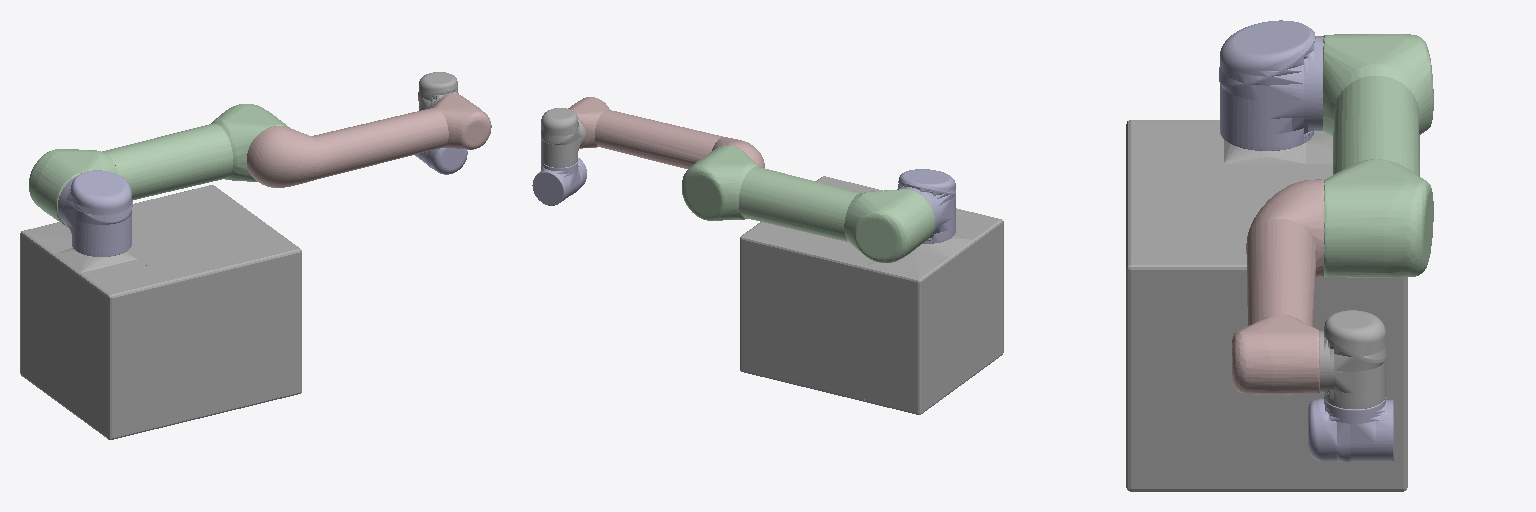
The robot description file, URDF, robot "ur5_rg2":
<?xml version="1.0" ?>
<!-- =================================================================================== -->
<!-- |    This document was autogenerated by xacro from ur.urdf.xacro                  | -->
<!-- |    EDITING THIS FILE BY HAND IS NOT RECOMMENDED                                 | -->
<!-- =================================================================================== -->
<robot name="ur5_rg2">
  <link name="base_link">
    <inertial>
      <mass value="0.0"/>
      <origin rpy="0 0 0" xyz="0 0 0"/>
      <inertia ixx="0.0" ixy="0.0" ixz="0.0" iyy="0.0" iyz="0.0" izz="0.0"/>
    </inertial>
  </link>
  <link name="base_link_inertia">
    <visual>
      <origin rpy="0 0 0" xyz="0 0 0"/>
      <geometry>
        <mesh filename="meshes/ur5/visual/base_mobile.obj" scale="0.6 0.6 0.6"/>
      </geometry>
      <material name="LightGrey">
        <color rgba="0.7 0.7 0.7 1.0"/>
      </material>
    </visual>
    <collision>
      <origin rpy="0 0 0" xyz="0 0 0"/>
      <geometry>
        <mesh filename="meshes/ur5/cvx/0_coacd/base_mobile.obj" scale="0.6 0.6 0.6"/>
      </geometry>
    </collision>
    <inertial>
      <mass value="4.0"/>
      <origin rpy="0 0 0" xyz="0 0 0"/>
      <inertia ixx="0.00443333156" ixy="0.0" ixz="0.0" iyy="0.00443333156" iyz="0.0" izz="0.0072"/>
    </inertial>
  </link>
  <link name="shoulder_link">
    <visual>
      <origin rpy="0 0 3.141592653589793" xyz="0 0 0"/>
      <geometry>
        <mesh filename="meshes/ur5/visual/shoulder.obj"/>
      </geometry>
      <material name="LightBlue">
        <color rgba="0.7 0.7 0.8 1.0"/>
      </material>
    </visual>
    <collision>
      <origin rpy="0 0 3.141592653589793" xyz="0 0 0"/>
      <geometry>
        <mesh filename="meshes/ur5/cvx/0_coacd/shoulder.obj"/>
      </geometry>
    </collision>
    <inertial>
      <mass value="3.7"/>
      <origin rpy="0 0 0" xyz="0 0 0"/>
      <inertia ixx="0.014972352344389999" ixy="0.0" ixz="0.0" iyy="0.014972352344389999" iyz="0.0" izz="0.01040625"/>
    </inertial>
  </link>
  <link name="upper_arm_link">
    <visual>
      <origin rpy="1.5707963267948966 0 -1.5707963267948966" xyz="0 0 0.13585"/>
      <geometry>
        <mesh filename="meshes/ur5/visual/upperarm.obj"/>
      </geometry>
      <material name="LightGreen">
        <color rgba="0.7 0.8 0.7 1.0"/>
      </material>
    </visual>
    <collision>
      <origin rpy="1.5707963267948966 0 -1.5707963267948966" xyz="0 0 0.13585"/>
      <geometry>
        <mesh filename="meshes/ur5/cvx/0_coacd/upperarm.obj"/>
      </geometry>
    </collision>
    <inertial>
      <mass value="8.393"/>
      <origin rpy="0 1.5707963267948966 0" xyz="-0.2125 0.0 0.136"/>
      <inertia ixx="0.1338857818623325" ixy="0.0" ixz="0.0" iyy="0.1338857818623325" iyz="0.0" izz="0.0151074"/>
    </inertial>
  </link>
  <link name="forearm_link">
    <visual>
      <origin rpy="1.5707963267948966 0 -1.5707963267948966" xyz="0 0 0.0165"/>
      <geometry>
        <mesh filename="meshes/ur5/visual/forearm.obj"/>
      </geometry>
      <material name="LightRed">
        <color rgba="0.8 0.7 0.7 1.0"/>
      </material>
    </visual>
    <collision>
      <origin rpy="1.5707963267948966 0 -1.5707963267948966" xyz="0 0 0.0165"/>
      <geometry>
        <mesh filename="meshes/ur5/cvx/0_coacd/forearm.obj"/>
      </geometry>
    </collision>
    <inertial>
      <mass value="2.275"/>
      <origin rpy="0 1.5707963267948966 0" xyz="-0.196125 0.0 0.0165"/>
      <inertia ixx="0.03121679102890359" ixy="0.0" ixz="0.0" iyy="0.03121679102890359" iyz="0.0" izz="0.004095"/>
    </inertial>
  </link>
  <link name="wrist_1_link">
    <visual>
      <origin rpy="1.5707963267948966 0 0" xyz="0 0 -0.093"/>
      <geometry>
        <mesh filename="meshes/ur5/visual/wrist1.obj"/>
      </geometry>
      <material name="LightGrey">
        <color rgba="0.7 0.7 0.7 1.0"/>
      </material>
    </visual>
    <collision>
      <origin rpy="1.5707963267948966 0 0" xyz="0 0 -0.093"/>
      <geometry>
        <mesh filename="meshes/ur5/cvx/0_coacd/wrist1.obj"/>
      </geometry>
    </collision>
    <inertial>
      <mass value="1.219"/>
      <origin rpy="0 0 0" xyz="0 0 0"/>
      <inertia ixx="0.0020138887777775" ixy="0.0" ixz="0.0" iyy="0.0020138887777775" iyz="0.0" izz="0.0021942"/>
    </inertial>
  </link>
  <link name="wrist_2_link">
    <visual>
      <origin rpy="0 0 0" xyz="0 0 -0.095"/>
      <geometry>
        <mesh filename="meshes/ur5/visual/wrist2.obj"/>
      </geometry>
      <material name="LightBlue">
        <color rgba="0.7 0.7 0.8 1.0"/>
      </material>
    </visual>
    <collision>
      <origin rpy="0 0 0" xyz="0 0 -0.095"/>
      <geometry>
        <mesh filename="meshes/ur5/cvx/0_coacd/wrist2.obj"/>
      </geometry>
    </collision>
    <inertial>
      <mass value="1.219"/>
      <origin rpy="0 0 0" xyz="0 0 0"/>
      <inertia ixx="0.0018310388509175" ixy="0.0" ixz="0.0" iyy="0.0018310388509175" iyz="0.0" izz="0.0021942"/>
    </inertial>
  </link>
  <link name="wrist_3_link">
    <visual>
      <origin rpy="0 0 0" xyz="0 0 0"/>
      <geometry>
        <mesh filename="meshes/rg2_gripper/modified/ee_rg2_gripper_open10.obj"/>
      </geometry>
      <material name="LightGreen">
        <color rgba="0.7 0.8 0.7 1.0"/>
      </material>
    </visual>
    <collision>
      <origin rpy="0 0 0" xyz="0 0 0"/>
      <geometry>
        <mesh filename="meshes/rg2_gripper/cvx/0_coacd/ee_rg2_gripper_open10.obj"/>
      </geometry>
    </collision>
    <inertial>
      <mass value="0.1879"/>
      <origin rpy="0 0 0" xyz="0.0 0.0 -0.01525"/>
      <inertia ixx="8.062472608343e-05" ixy="0.0" ixz="0.0" iyy="8.062472608343e-05" iyz="0.0" izz="0.0001321171875"/>
    </inertial>
  </link>
  

  <!-- joints - main serial chain -->
  <joint name="base_link-base_link_inertia" type="fixed">
    <parent link="base_link"/>
    <child link="base_link_inertia"/>
    <!-- 'base_link' is REP-103 aligned (so X+ forward), while the internal
           frames of the robot/controller have X+ pointing backwards.
           Use the joint between 'base_link' and 'base_link_inertia' (a dummy
           link/frame) to introduce the necessary rotation over Z (of pi rad).
      -->
    <origin rpy="0 0 3.141592653589793" xyz="0 0 0"/>
  </joint>
  <joint name="shoulder_pan_joint" type="revolute">
    <parent link="base_link_inertia"/>
    <child link="shoulder_link"/>
    <origin rpy="0 0 0" xyz="0 0 0.089159"/>
    <axis xyz="0 0 1"/>
    <limit effort="150.0" lower="-6.283185307179586" upper="6.283185307179586" velocity="3.141592653589793"/>
    <dynamics damping="0" friction="0"/>
  </joint>
  <joint name="shoulder_lift_joint" type="revolute">
    <parent link="shoulder_link"/>
    <child link="upper_arm_link"/>
    <origin rpy="1.570796327 0 0" xyz="0 0 0"/>
    <axis xyz="0 0 1"/>
    <limit effort="150.0" lower="-6.283185307179586" upper="6.283185307179586" velocity="3.141592653589793"/>
    <dynamics damping="0" friction="0"/>
  </joint>
  <joint name="elbow_joint" type="revolute">
    <parent link="upper_arm_link"/>
    <child link="forearm_link"/>
    <origin rpy="0 0 0" xyz="-0.425 0 0"/>
    <axis xyz="0 0 1"/>
    <limit effort="150.0" lower="-3.141592653589793" upper="3.141592653589793" velocity="3.141592653589793"/>
    <dynamics damping="0" friction="0"/>
  </joint>
  <joint name="wrist_1_joint" type="revolute">
    <parent link="forearm_link"/>
    <child link="wrist_1_link"/>
    <origin rpy="0 0 0" xyz="-0.39225 0 0.10915"/>
    <axis xyz="0 0 1"/>
    <limit effort="28.0" lower="-6.283185307179586" upper="6.283185307179586" velocity="3.141592653589793"/>
    <dynamics damping="0" friction="0"/>
  </joint>
  <joint name="wrist_2_joint" type="revolute">
    <parent link="wrist_1_link"/>
    <child link="wrist_2_link"/>
    <origin rpy="1.570796327 0 0" xyz="0 -0.09465 -1.941303950897609e-11"/>
    <axis xyz="0 0 1"/>
    <limit effort="28.0" lower="-6.283185307179586" upper="6.283185307179586" velocity="3.141592653589793"/>
    <dynamics damping="0" friction="0"/>
  </joint>
  <joint name="wrist_3_joint" type="revolute">
    <parent link="wrist_2_link"/>
    <child link="wrist_3_link"/>
    <origin rpy="1.570796326589793 3.141592653589793 3.141592653589793" xyz="0 0.0823 -1.688001216681175e-11"/>
    <axis xyz="0 0 1"/>
    <limit effort="28.0" lower="-6.283185307179586" upper="6.283185307179586" velocity="3.141592653589793"/>
    <dynamics damping="0" friction="0"/>
  </joint>
  
</robot>

--- Render facts (derived) ---
3 views of the same robot in one strip: view 1: azimuth 30°, elevation 25°; view 2: azimuth 150°, elevation 25°; view 3: azimuth 270°, elevation 25° (orthographic).
Model ur5_rg2 with 8 links and 7 joints (6 revolute, 1 fixed), rooted at base_link, posed every joint at zero.
Visible links, largest first — view 1: base_link_inertia, upper_arm_link, forearm_link, shoulder_link, wrist_1_link, wrist_2_link; view 2: base_link_inertia, upper_arm_link, forearm_link, shoulder_link, wrist_1_link, wrist_2_link; view 3: base_link_inertia, upper_arm_link, forearm_link, shoulder_link, wrist_1_link, wrist_2_link.
Boxes of the visible links, left/top/right/bottom form: base_link_inertia: left=20, top=185, right=301, bottom=439; upper_arm_link: left=29, top=104, right=289, bottom=227; forearm_link: left=247, top=94, right=491, bottom=187; shoulder_link: left=58, top=170, right=132, bottom=256; wrist_1_link: left=418, top=72, right=458, bottom=110; wrist_2_link: left=415, top=148, right=467, bottom=174; base_link_inertia: left=740, top=176, right=1003, bottom=414; upper_arm_link: left=682, top=146, right=934, bottom=262; forearm_link: left=568, top=97, right=764, bottom=168; shoulder_link: left=897, top=169, right=955, bottom=243; wrist_1_link: left=541, top=108, right=585, bottom=167; wrist_2_link: left=532, top=158, right=586, bottom=205; base_link_inertia: left=1126, top=120, right=1407, bottom=491; upper_arm_link: left=1323, top=34, right=1433, bottom=277; forearm_link: left=1232, top=179, right=1323, bottom=394; shoulder_link: left=1219, top=20, right=1323, bottom=150; wrist_1_link: left=1320, top=310, right=1386, bottom=408; wrist_2_link: left=1308, top=397, right=1393, bottom=461.
Bounding box of the posed robot: 0.9421 × 0.3819 × 0.4667 m (x, y, z).
Meshes: 7 distinct files referenced, 6 mesh visuals loaded (6 OBJ); not drawn: 1 (reference not matched to a file when rendering).